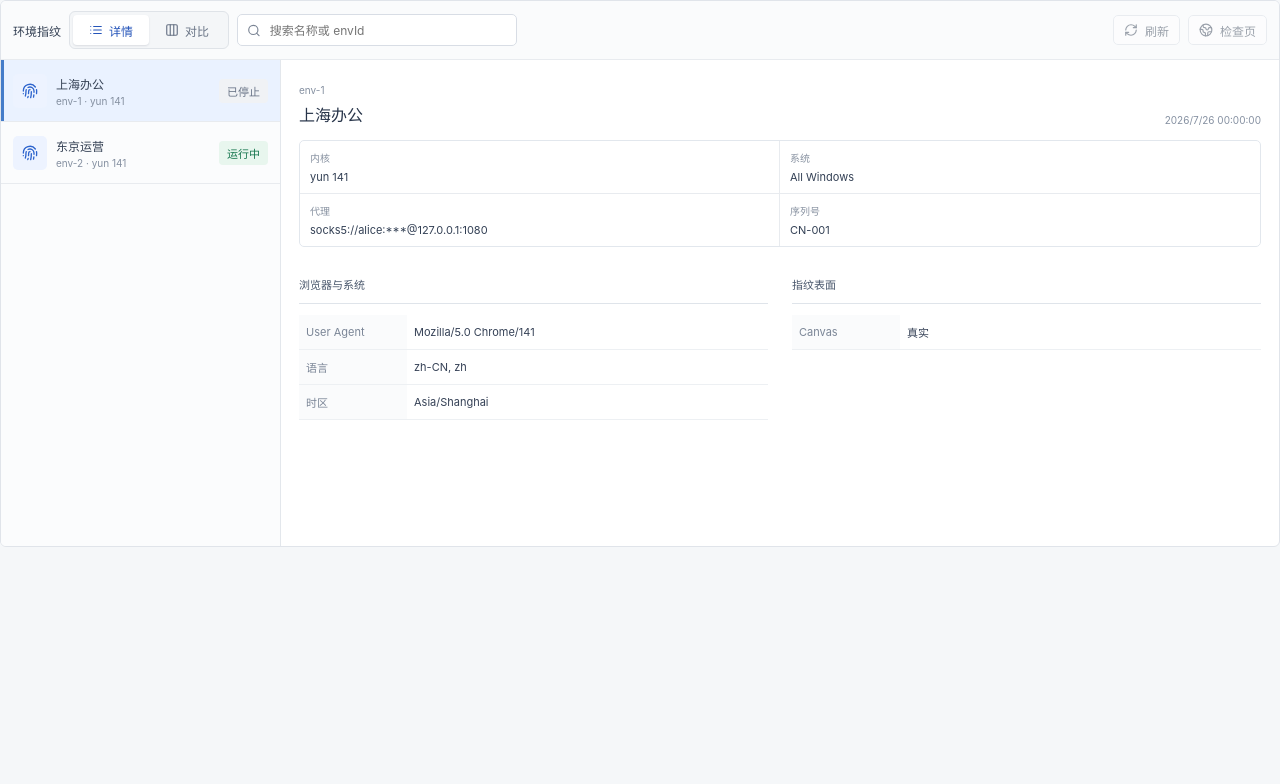
Test case: FingerprintPage › compares selected remote summaries as same, different, or unknown
Click the button "对比".
click(187, 30)  # box [149,15,225,45]
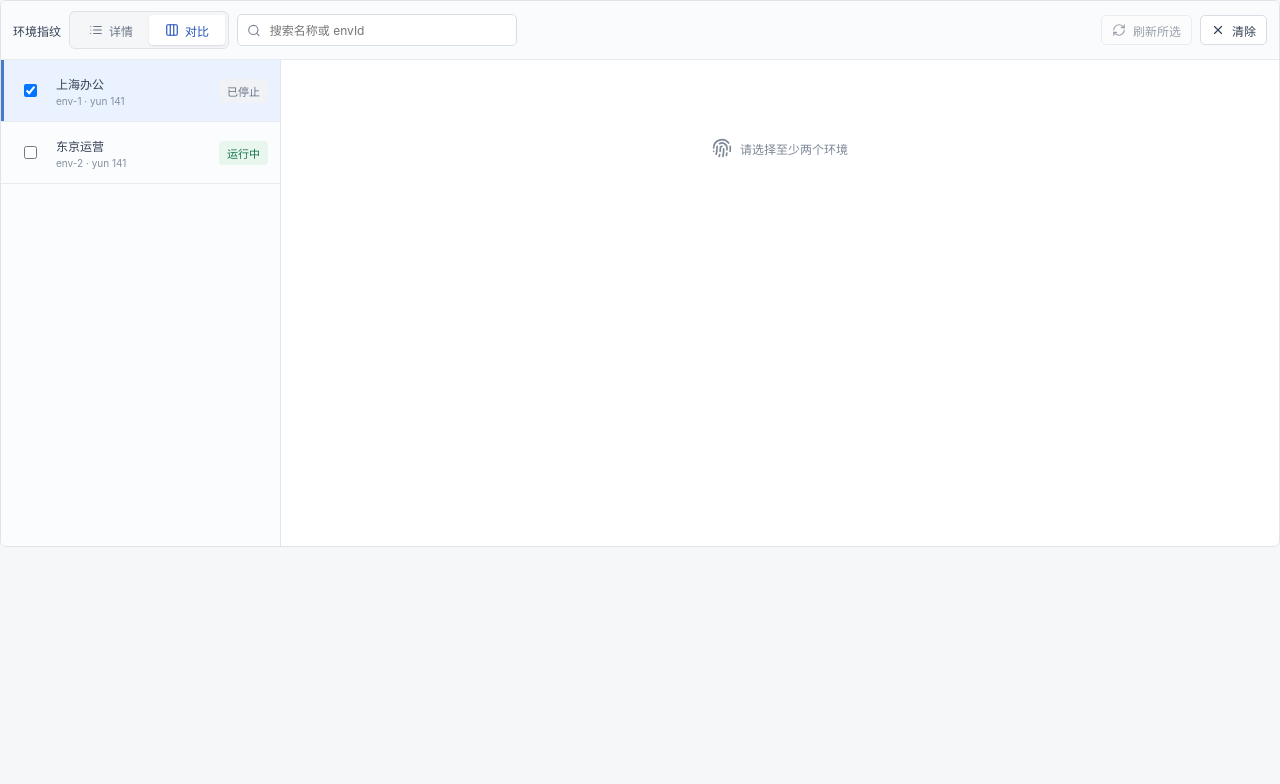
Click the checkbox named "对比 东京运营 (env-2)".
click(30, 152)  # box [24,146,37,159]
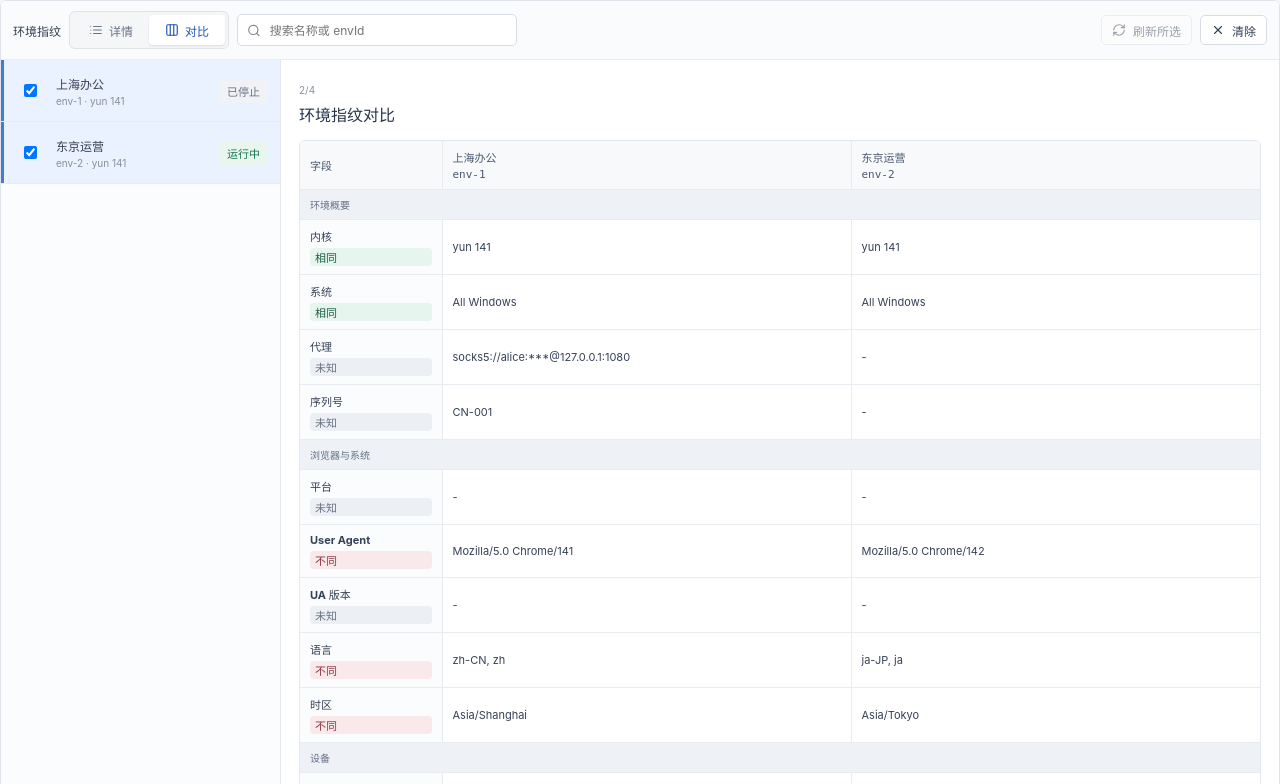
Now the text "相同" below "内核" is shown, box [315,252,337,265]
Now the text "不同" below "User Agent" is shown, box [315,555,337,568]
Now the text "Mozilla/5.0 Chrome/141" is shown, box [442,524,851,578]
